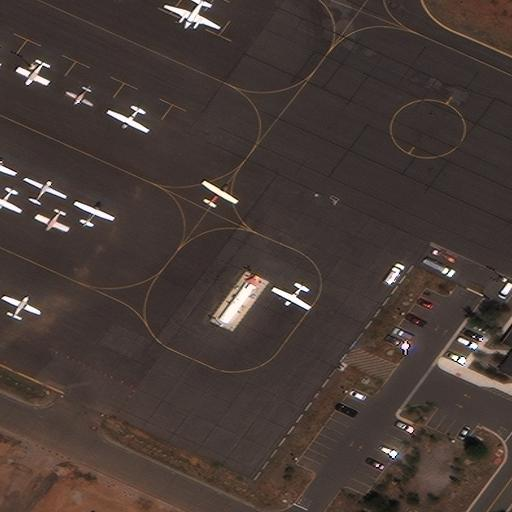Medium Civil Transport: (163, 0, 219, 29)
Small Civil Transport: (25, 176, 67, 204), (104, 107, 147, 134), (74, 200, 115, 227), (270, 285, 308, 310), (204, 179, 238, 205), (3, 295, 40, 318), (14, 61, 47, 86), (33, 210, 67, 232), (64, 86, 92, 107), (0, 189, 20, 214), (0, 158, 17, 177)
